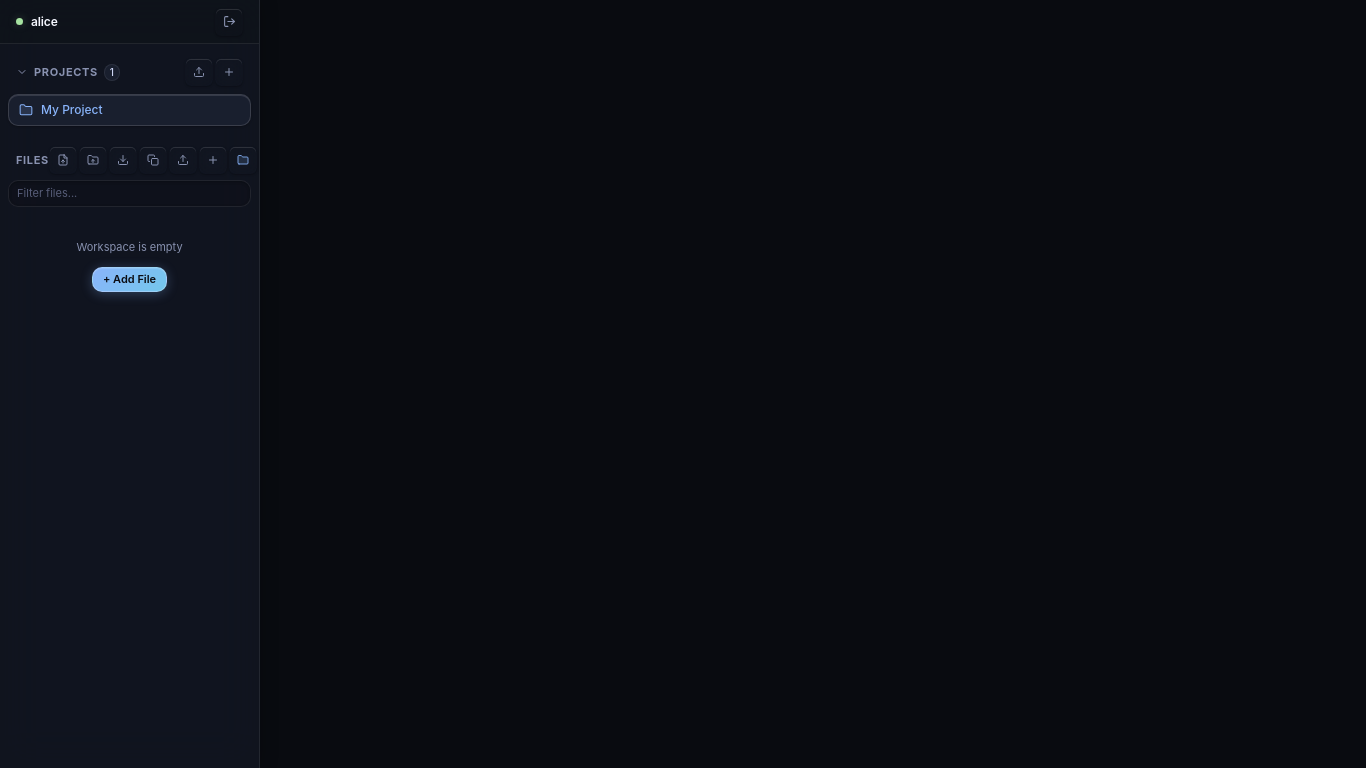
Test case: Sidebar — runnable-by-default starter templates › changing selection between starters works and pre-fills the name
Step 1. Click the button titled "Create New Project" → x=229, y=72, box [215,58,243,86]
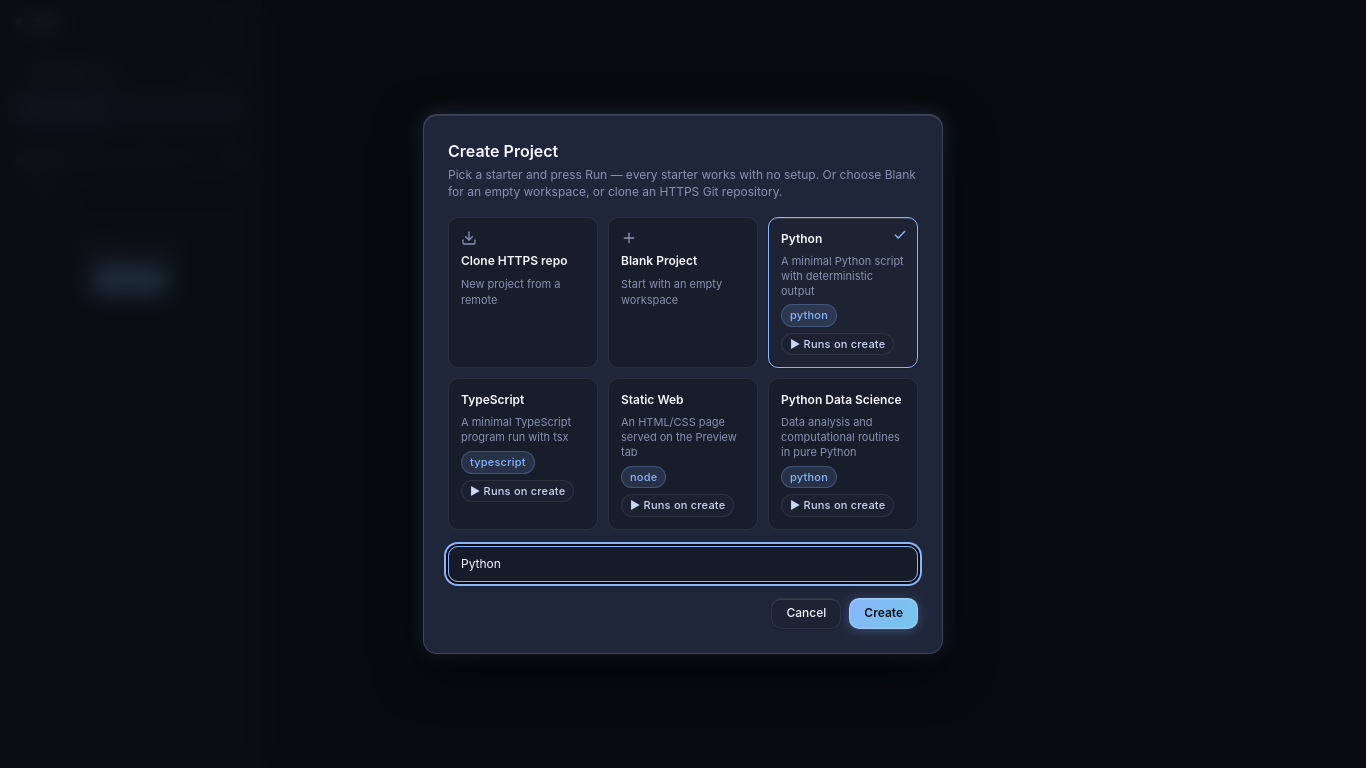
Now the text "TypeScript" is shown
Step 2. Click the text "TypeScript" → x=493, y=400, box [461,391,524,409]
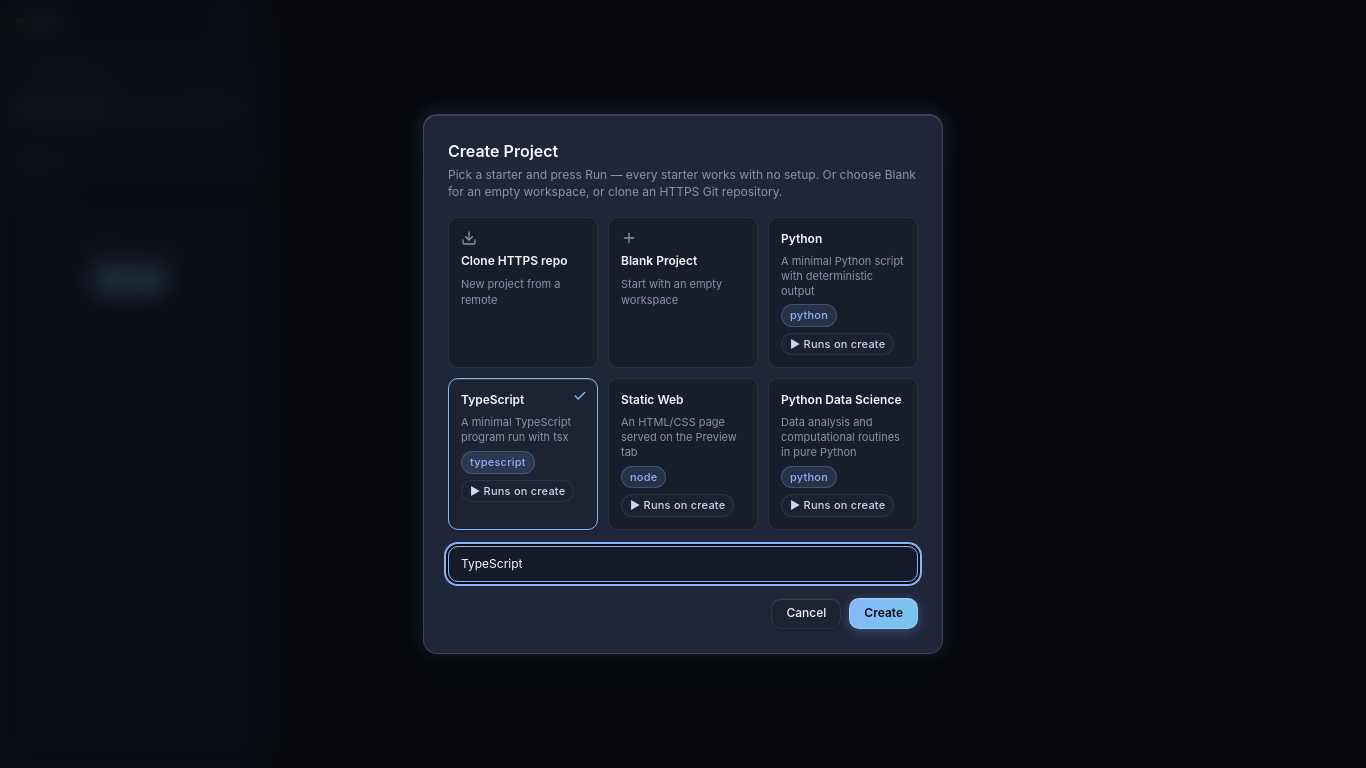
Now the field with placeholder "Project Name" holds "TypeScript", box [448,546,918,582]
